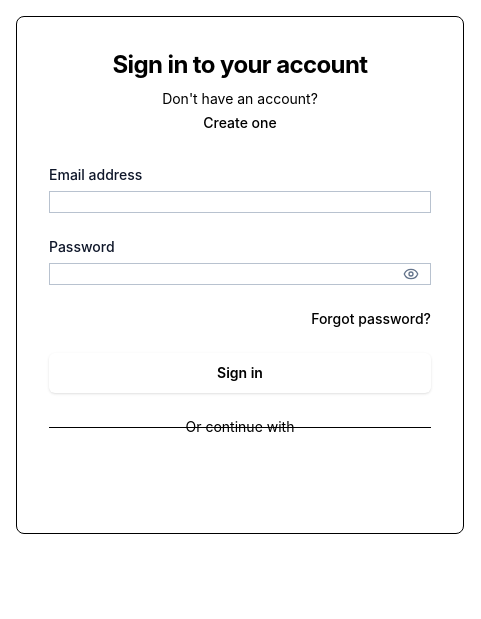
it: AccountLoginPage › displays "Invalid email or password." on 401
The width and height of the screenshot is (481, 619).
Type "test@example.com" into the field labelled "Email address" at coordinates (240, 202), box x1=49 y1=191 x2=431 y2=213
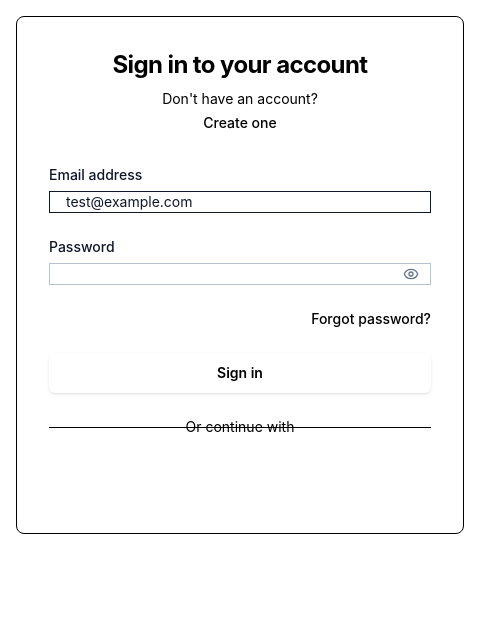
Type "wrongpassword" into the password field labelled "Password" at coordinates (240, 274), box x1=49 y1=263 x2=431 y2=285
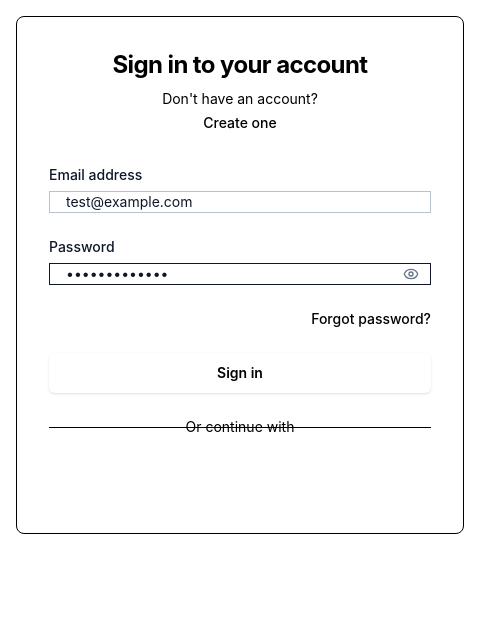
Click the button "Sign in" at coordinates (240, 373), box x1=49 y1=353 x2=431 y2=393
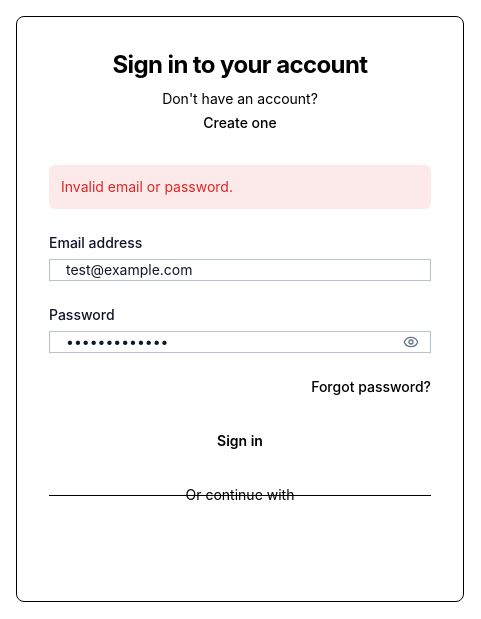
Result: the message reads "Invalid email or password." at x1=61 y1=178 x2=233 y2=195
